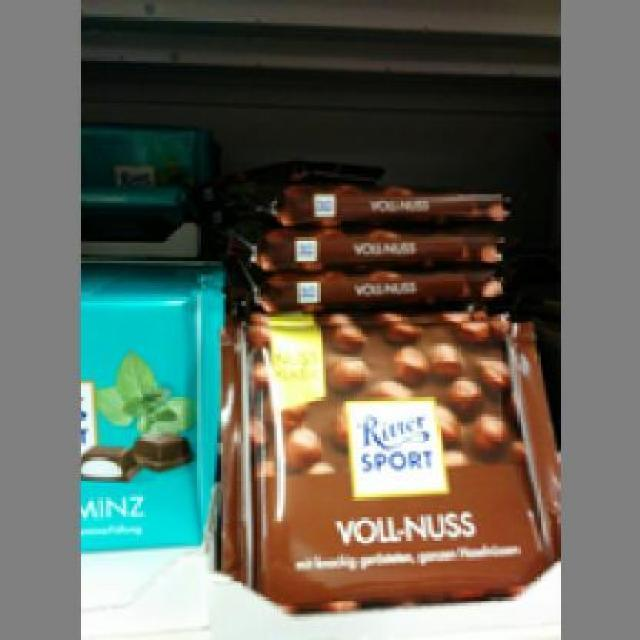Chocolate: (217, 314, 557, 603), (77, 268, 220, 552)
